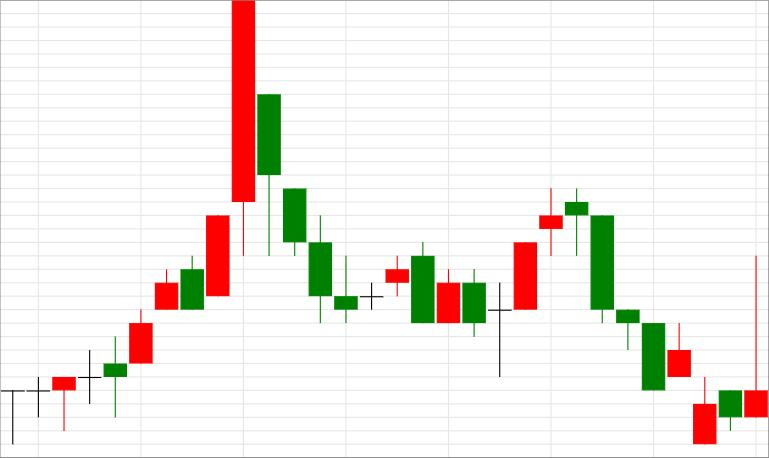three_black_crows_fall: (129, 0, 331, 364)
